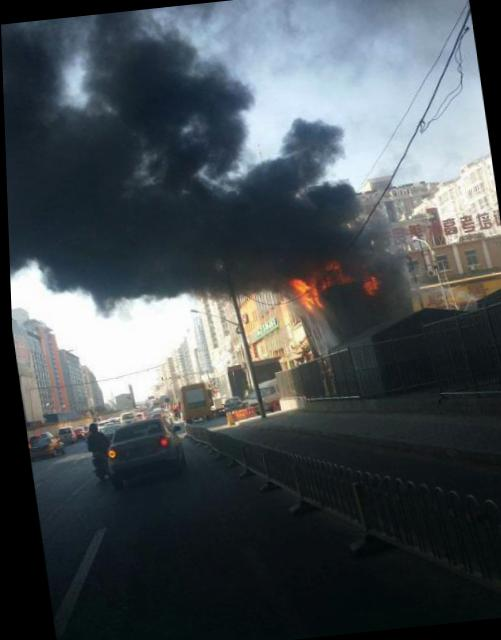fire: (317, 260, 357, 287), (287, 271, 316, 308), (357, 273, 378, 298)
